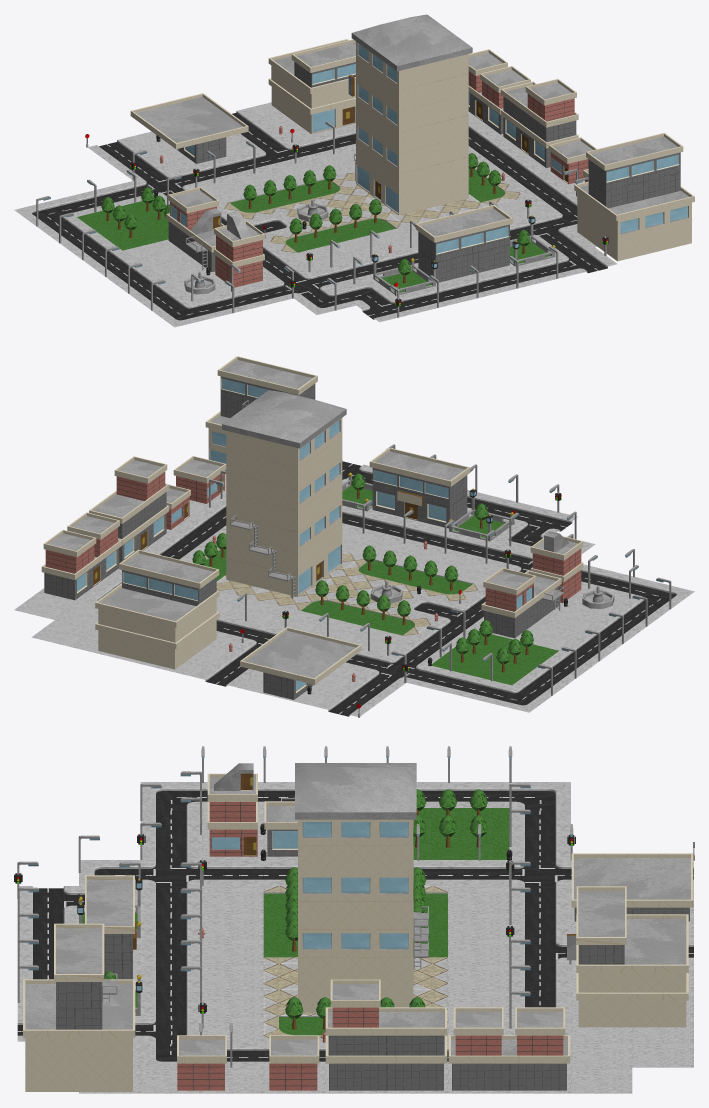
Rendered from small_city3.glb.
3 views of the same model, one above another, from view 1: azimuth 30°, elevation 25°; view 2: azimuth 150°, elevation 25°; view 3: azimuth 270°, elevation 25° (orthographic). The views are drawn at different scales.
Parts seen in each view (by area): view 1: ModularCity_CombinedForFBX; view 2: ModularCity_CombinedForFBX; view 3: ModularCity_CombinedForFBX.
Boxes of the visible parts, x1,y1,x2,y2 form: ModularCity_CombinedForFBX: [14, 14, 694, 327]; ModularCity_CombinedForFBX: [14, 356, 694, 717]; ModularCity_CombinedForFBX: [14, 746, 694, 1093].
Bounding box in the file's own units: 0.12 × 0.0383 × 0.1108.
Materials: 8 (7 with a texture image).
